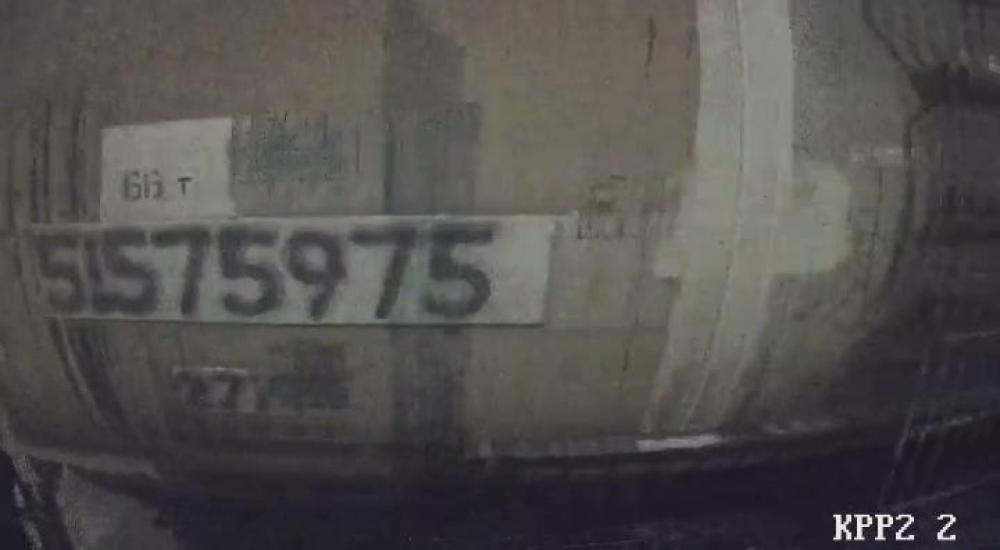Wagon-number: (24, 216, 508, 328)
